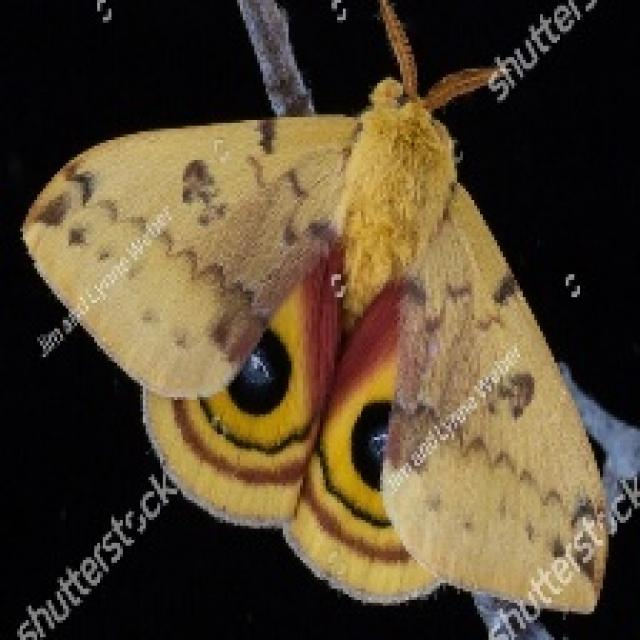butterfly: (17, 0, 617, 637)
